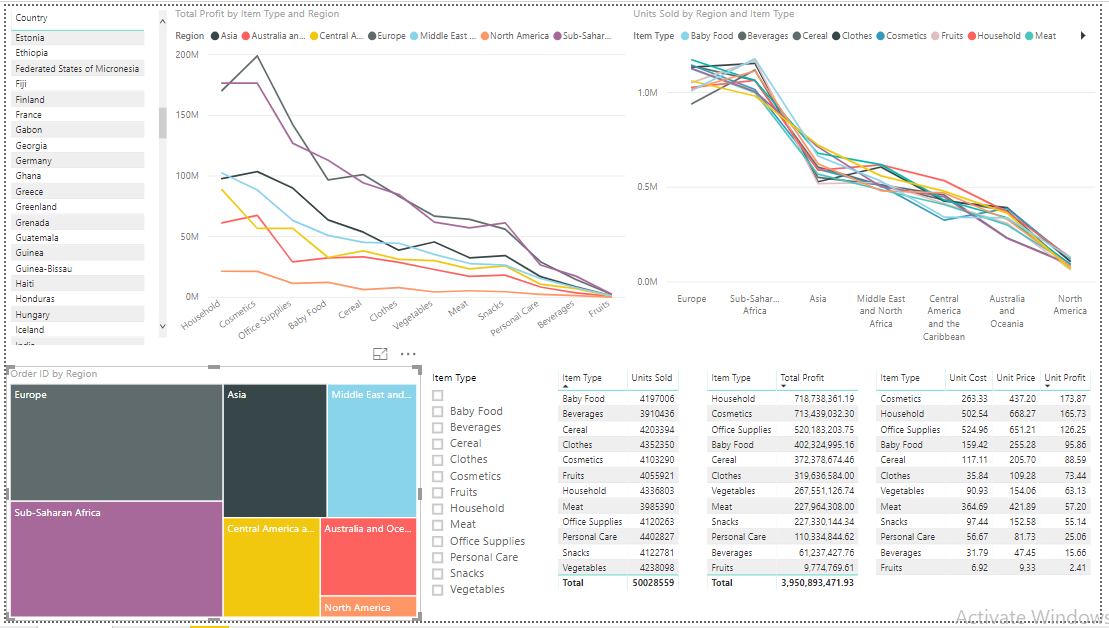

Layout of this report page (visuals, bound fields, positions):
{"tool":"powerbi","page":{"name":"Page 1","canvas":[1280,720],"ordinal":1},"visuals":[{"type":"lineChart","fields":{"Y":["Sum(Sales Records.Units Sold)"],"Category":["Sales Records.Item Type"],"Series":["Sales Records.Country"]},"box":[729.1,0,550.9,360.6],"z":2},{"type":"tableEx","fields":{"Values":["Sales Records.Item Type","Sum(Sales Records.Units Sold)"]},"box":[661.3,411.1,154.3,270.1],"z":3},{"type":"treemap","fields":{"Group":["Sales Records.Region"],"Values":["CountNonNull(Sales Records.Order ID)"]},"box":[0,377.9,485.7,342],"z":4},{"type":"lineChart","fields":{"Y":["Sum(Sales Records.Total Profit)"],"Category":["Sales Records.Item Type"],"Series":["Sales Records.Country"]},"box":[193.2,0,536.2,360.6],"z":5},{"type":"tableEx","fields":{"Values":["Sales Records.Item Type","Sum(Sales Records.Total Profit)"]},"box":[816,410.9,188.5,270.4],"z":6},{"type":"tableEx","fields":{"Values":["Sales Records.Item Type","Sales Records.Unit Cost","Sales Records.Unit Price","Sales Records.Unit Profit"]},"box":[1013.9,411.1,266.1,267.4],"z":6},{"type":"slicer","fields":{"Values":["Sales Records.Item Type"]},"box":[486,446,129.4,274],"z":7},{"type":"tableEx","fields":{"Values":["Sales Records.Country"]},"box":[0,0,192.9,360.6],"z":8},{"type":"slicer","fields":{"Values":["Sales Records.Order Date.Variation.Date Hierarchy.Year"]},"box":[485.7,360.6,175.6,99.8],"z":9}]}

Visuals, with their boxes on the page's 1280x720 design canvas (x1, y1, x2, y2). These are canvas units, not pixel positions in the 1109x628 screenshot, which may show the page scaled, cropped or inside an application window:
lineChart - Sum(Sales Records.Units Sold) x Sales Records.Item Type: <box>729,0,1280,361</box>
tableEx - Sales Records.Item Type x Sum(Sales Records.Units Sold): <box>661,411,816,681</box>
treemap - Sales Records.Region x CountNonNull(Sales Records.Order ID): <box>0,378,486,720</box>
lineChart - Sum(Sales Records.Total Profit) x Sales Records.Item Type: <box>193,0,729,361</box>
tableEx - Sales Records.Item Type x Sum(Sales Records.Total Profit): <box>816,411,1004,681</box>
tableEx - Sales Records.Item Type x Sales Records.Unit Cost: <box>1014,411,1280,678</box>
slicer - Sales Records.Item Type: <box>486,446,615,720</box>
tableEx - Sales Records.Country: <box>0,0,193,361</box>
slicer - Sales Records.Order Date.Variation.Date Hierarchy.Year: <box>486,361,661,460</box>
